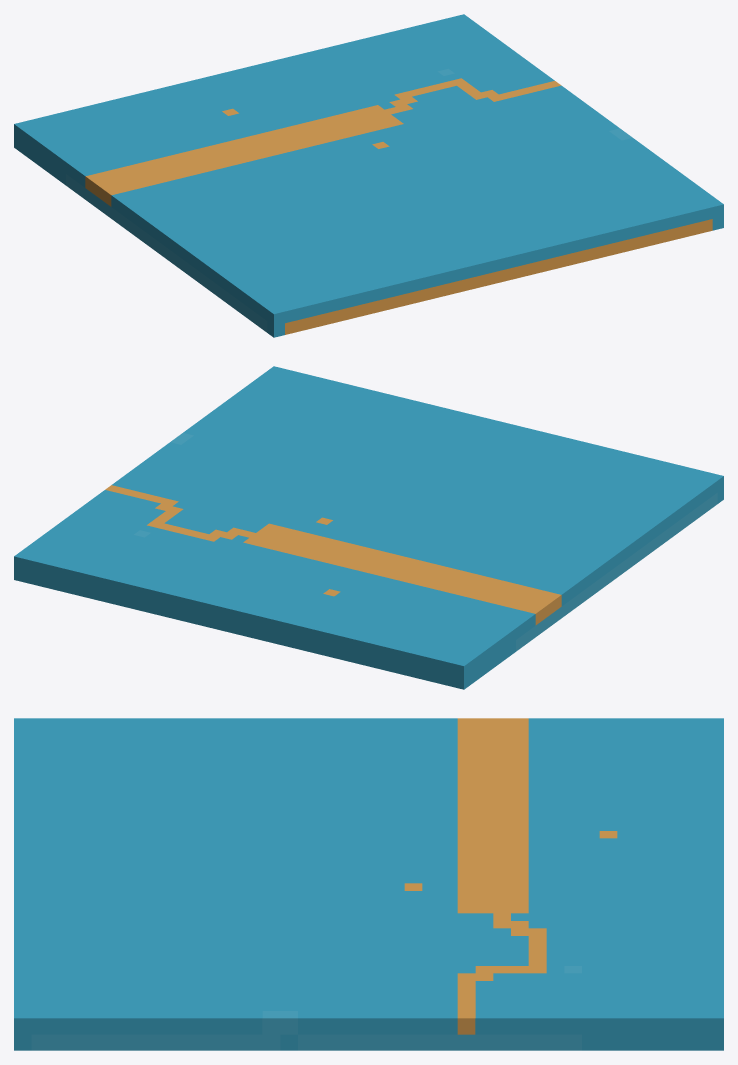
Rendered from teste-6.obj.
The picture shows the model from 3 angles, top to bottom: view 1: azimuth 30°, elevation 25°; view 2: azimuth 150°, elevation 25°; view 3: azimuth 270°, elevation 25°; orthographic projection. The views are drawn at different scales.
Bounding box in the file's own units: 4 × 0.2 × 4.
Materials: 1 (1 with a texture image).
